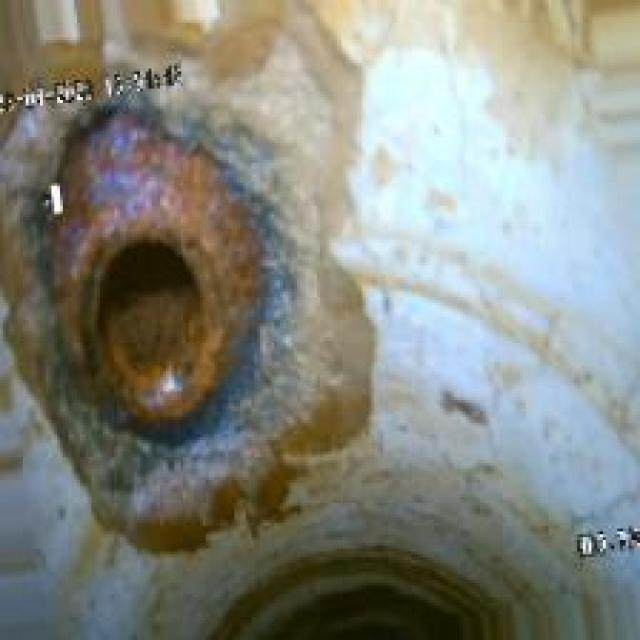ferrule: (37, 140, 280, 463)
